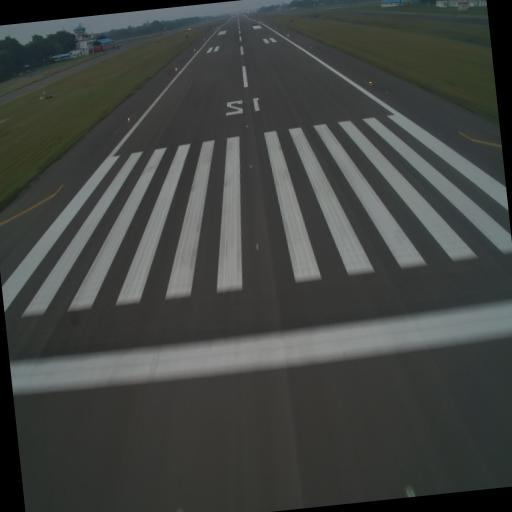on: (401, 481, 417, 498), (254, 236, 262, 254), (175, 502, 188, 512), (246, 159, 254, 170), (368, 79, 374, 88), (126, 115, 132, 124), (246, 120, 250, 130), (244, 100, 247, 105)
